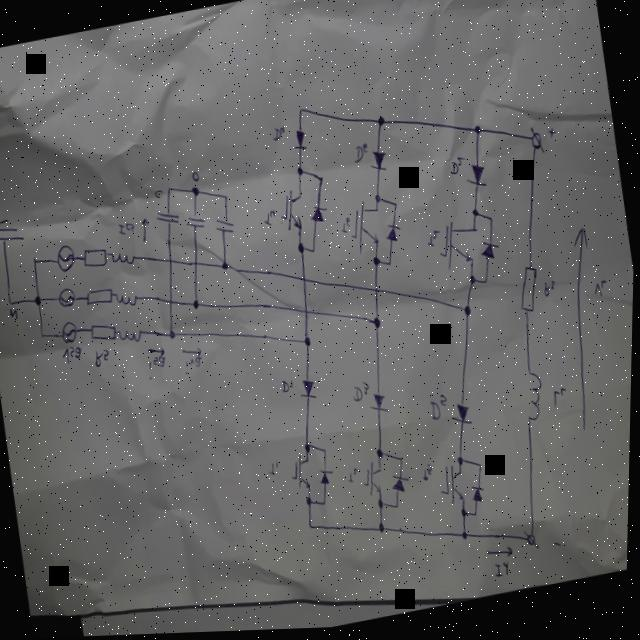capacitor: (213, 216, 236, 239), (155, 210, 181, 230), (184, 214, 207, 234)
crossover: (301, 277, 308, 287), (304, 310, 310, 319), (374, 290, 379, 298), (169, 299, 174, 306), (168, 259, 173, 266), (194, 263, 198, 269)
diode: (449, 401, 475, 433), (464, 164, 488, 196), (298, 378, 320, 406), (479, 240, 502, 266), (307, 203, 330, 228), (368, 150, 389, 177), (391, 473, 412, 499), (369, 393, 390, 419), (383, 223, 402, 248), (470, 486, 488, 511), (291, 130, 308, 156), (318, 469, 336, 489)
ground: (0, 214, 24, 246)
inductor: (521, 370, 550, 431), (111, 247, 136, 268), (119, 326, 144, 345), (116, 288, 138, 309)
junction: (190, 187, 201, 200), (372, 258, 382, 272), (378, 523, 388, 537), (376, 118, 386, 131), (473, 127, 482, 141), (297, 244, 306, 257), (304, 443, 313, 455), (35, 295, 43, 308), (168, 330, 177, 341), (377, 450, 385, 462), (471, 210, 479, 222), (464, 308, 472, 320), (378, 502, 386, 513), (31, 255, 39, 266), (469, 277, 476, 289), (318, 176, 325, 188), (193, 302, 201, 312), (297, 168, 304, 179), (307, 498, 314, 509), (463, 533, 470, 544), (462, 512, 469, 523), (222, 263, 229, 274), (374, 196, 381, 207), (374, 318, 380, 329), (458, 458, 464, 469), (304, 339, 310, 350), (308, 524, 315, 533), (166, 186, 173, 195), (297, 108, 304, 117), (310, 248, 317, 257), (387, 262, 393, 272), (8, 298, 14, 308), (222, 194, 228, 203), (488, 219, 494, 228), (323, 448, 329, 457), (478, 465, 484, 474), (323, 501, 329, 510), (483, 281, 489, 290), (473, 513, 479, 522), (393, 204, 398, 213), (40, 332, 45, 341), (399, 458, 404, 467), (396, 506, 401, 514)
resistor: (514, 265, 545, 319), (89, 320, 118, 346), (84, 286, 116, 309), (81, 246, 109, 271)
source: (55, 243, 78, 274), (59, 319, 81, 347), (58, 287, 78, 310)
terminal: (525, 128, 546, 162), (524, 530, 541, 556)
text: (428, 394, 452, 428), (145, 352, 172, 382), (550, 387, 572, 416), (351, 380, 373, 406), (182, 355, 206, 377), (61, 344, 84, 366), (115, 217, 138, 239), (92, 348, 112, 370), (448, 157, 468, 179), (494, 562, 513, 585), (351, 145, 370, 167), (592, 282, 611, 304), (425, 229, 442, 252), (261, 209, 279, 230), (346, 467, 364, 488), (542, 282, 558, 303), (267, 459, 283, 480), (421, 465, 436, 487), (270, 126, 287, 145), (339, 217, 353, 239), (281, 379, 295, 397), (9, 306, 20, 321), (190, 172, 200, 186), (546, 130, 556, 144), (554, 543, 564, 556), (154, 189, 163, 200)
transistor: (435, 220, 483, 280), (346, 200, 386, 260), (276, 189, 310, 240), (436, 465, 469, 513), (360, 462, 388, 505), (287, 454, 316, 495)
